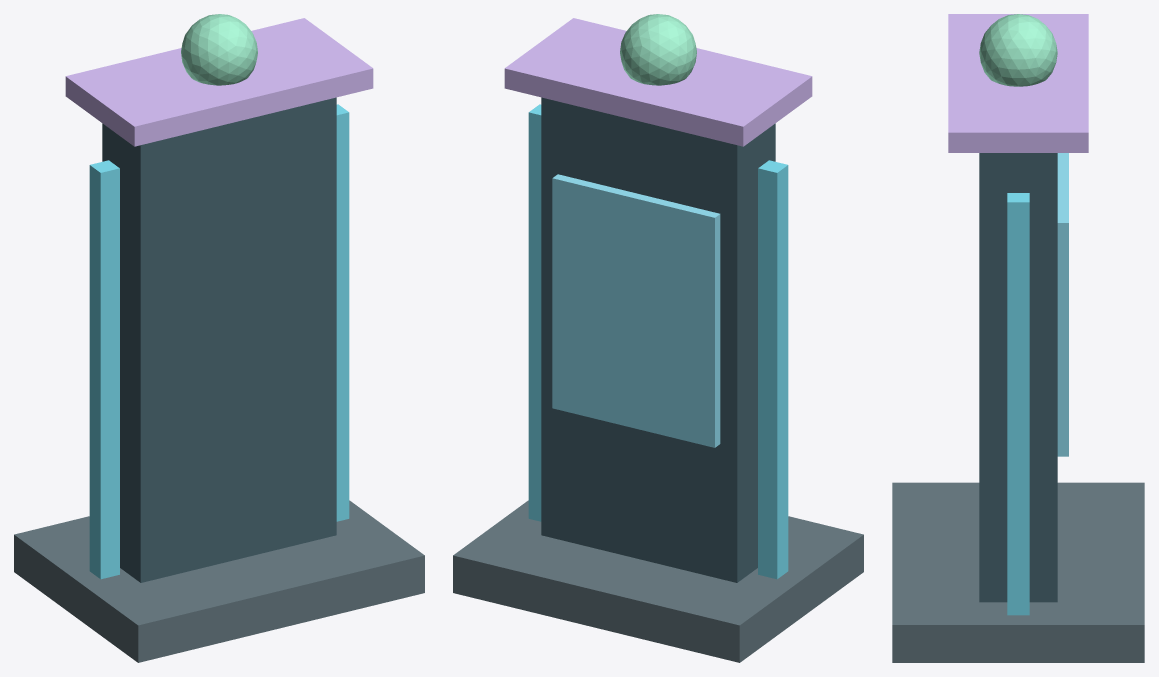
Rendered from campus-smart-kiosk-lod0.glb.
3 views of the same model, side by side, from view 1: azimuth 30°, elevation 25°; view 2: azimuth 150°, elevation 25°; view 3: azimuth 270°, elevation 25° (orthographic).
Parts seen in each view (by area): view 1: body, base, crown, edgeL, edgeR, beacon; view 2: body, screen, base, crown, edgeL, edgeR, beacon; view 3: base, body, crown, edgeR, beacon, screen.
Boxes of the visible parts, x1,y1,x2,y2 form: body: (102, 97, 336, 582); base: (14, 500, 424, 662); crown: (65, 18, 373, 146); edgeL: (89, 160, 119, 579); edgeR: (336, 104, 349, 521); beacon: (181, 14, 257, 85); body: (541, 97, 775, 582); screen: (552, 174, 720, 447); base: (453, 500, 863, 662); crown: (504, 18, 812, 146); edgeL: (758, 160, 788, 579); edgeR: (528, 104, 541, 521); beacon: (620, 14, 696, 85); base: (892, 482, 1144, 662); body: (979, 153, 1057, 602); crown: (948, 14, 1088, 152); edgeR: (1007, 193, 1029, 615); beacon: (979, 14, 1057, 86); screen: (1057, 153, 1068, 456).
Size of the model in its own units: 1.2 by 2.26 by 0.9.
